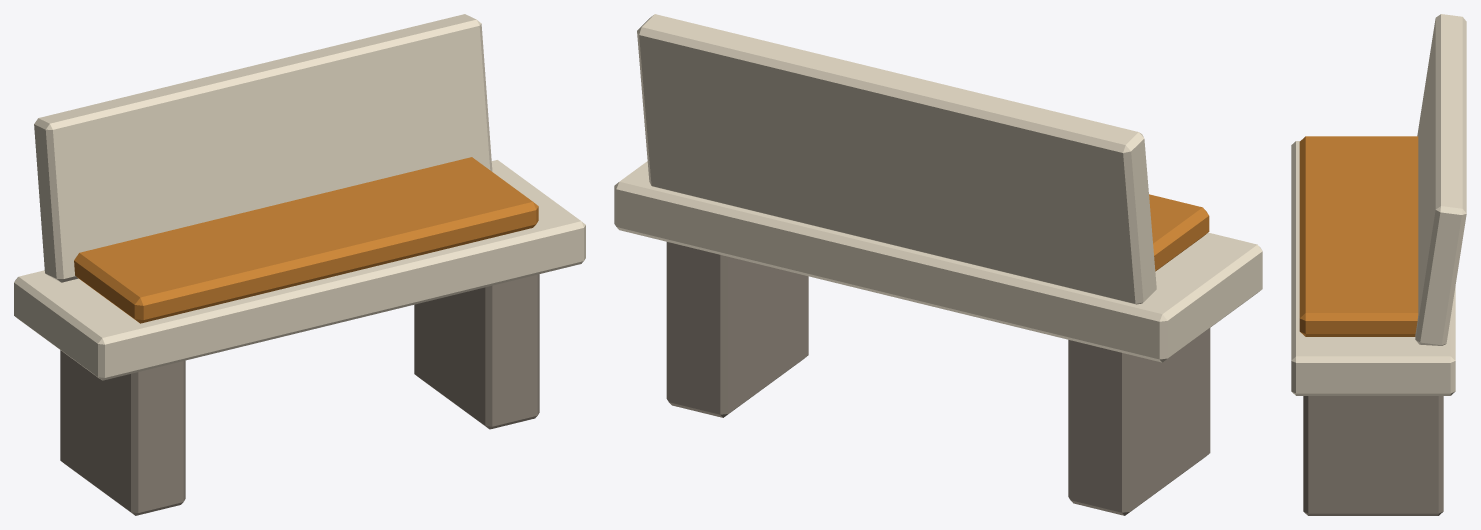
Rendered from decor_courtyard_bench_LOD1.glb.
The picture shows the model from 3 angles, left to right: view 1: azimuth 30°, elevation 25°; view 2: azimuth 150°, elevation 25°; view 3: azimuth 270°, elevation 25°; orthographic projection. The views are drawn at different scales.
Visible parts, largest first — view 1: decor_courtyard_bench_LOD1; view 2: decor_courtyard_bench_LOD1; view 3: decor_courtyard_bench_LOD1.
Part boxes in pixels (x1,y1,x2,y2): decor_courtyard_bench_LOD1: [14, 14, 585, 515]; decor_courtyard_bench_LOD1: [614, 14, 1262, 515]; decor_courtyard_bench_LOD1: [1291, 14, 1466, 515].
Size of the model in its own units: 2.15 by 1.44 by 0.7261.
